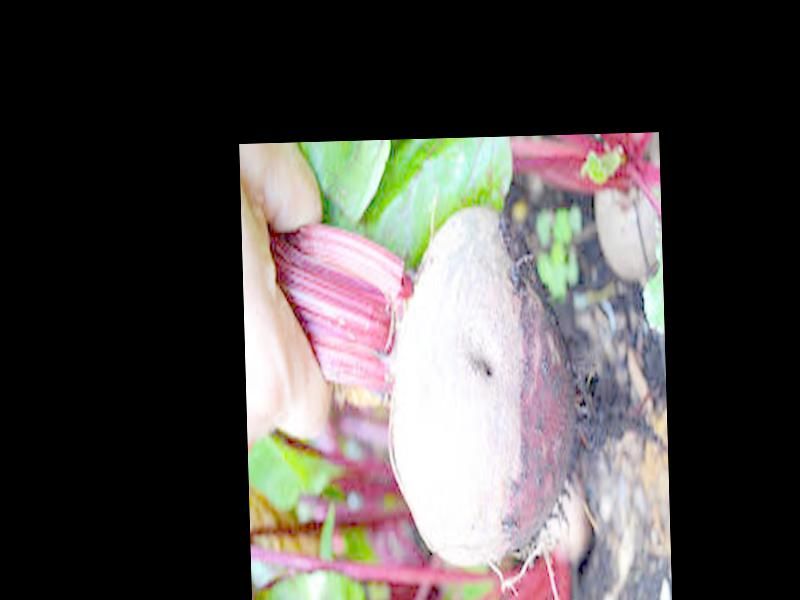Beet: (269, 202, 671, 574)
